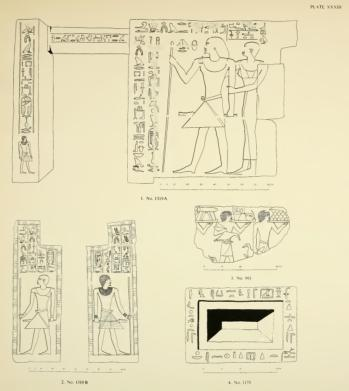circle: (147, 126, 161, 153), (19, 96, 33, 118)
